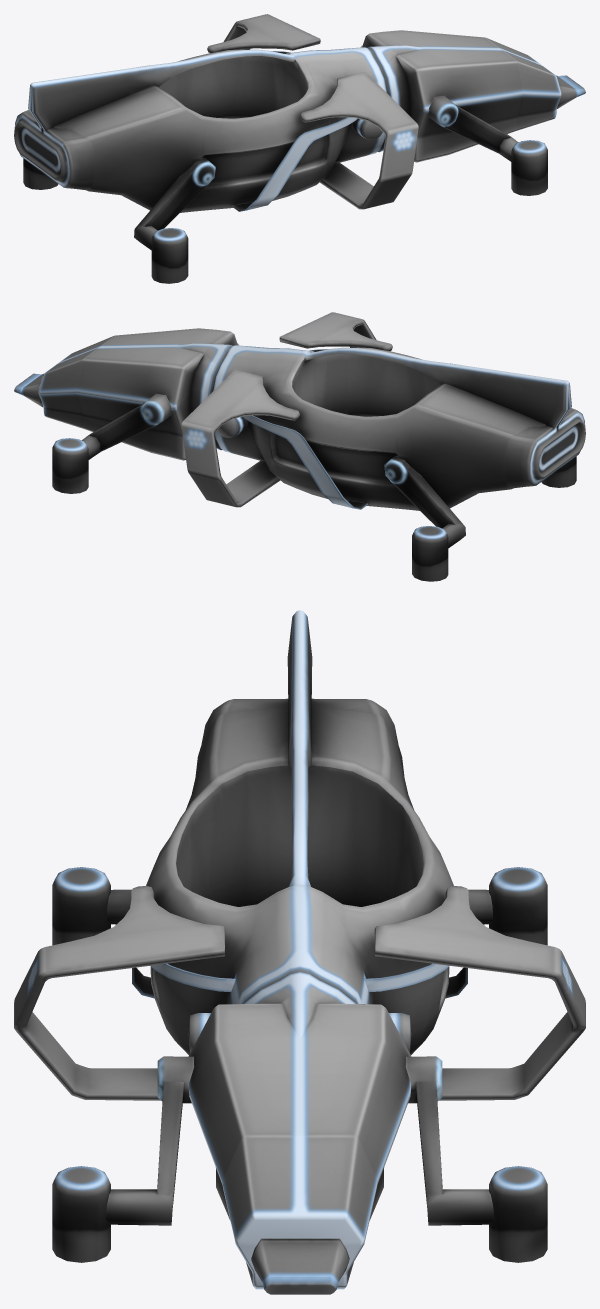
The model's file is f1_car_tron_09.dae.
3 views of the same model, one above another, from view 1: azimuth 30°, elevation 25°; view 2: azimuth 150°, elevation 25°; view 3: azimuth 270°, elevation 25° (orthographic). The views are drawn at different scales.
Visible parts, largest first — view 1: Tron_Car; view 2: Tron_Car; view 3: Tron_Car.
Part boxes in pixels (x1,y1,x2,y2): Tron_Car: (14, 14, 585, 283); Tron_Car: (14, 312, 585, 581); Tron_Car: (14, 610, 585, 1294).
Size of the model in its own units: 0.2933 by 0.1566 by 0.0845.
1 material, 1 textured.
